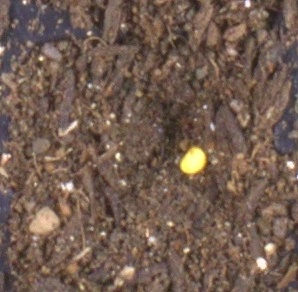chilli seed: (179, 146, 207, 174)
